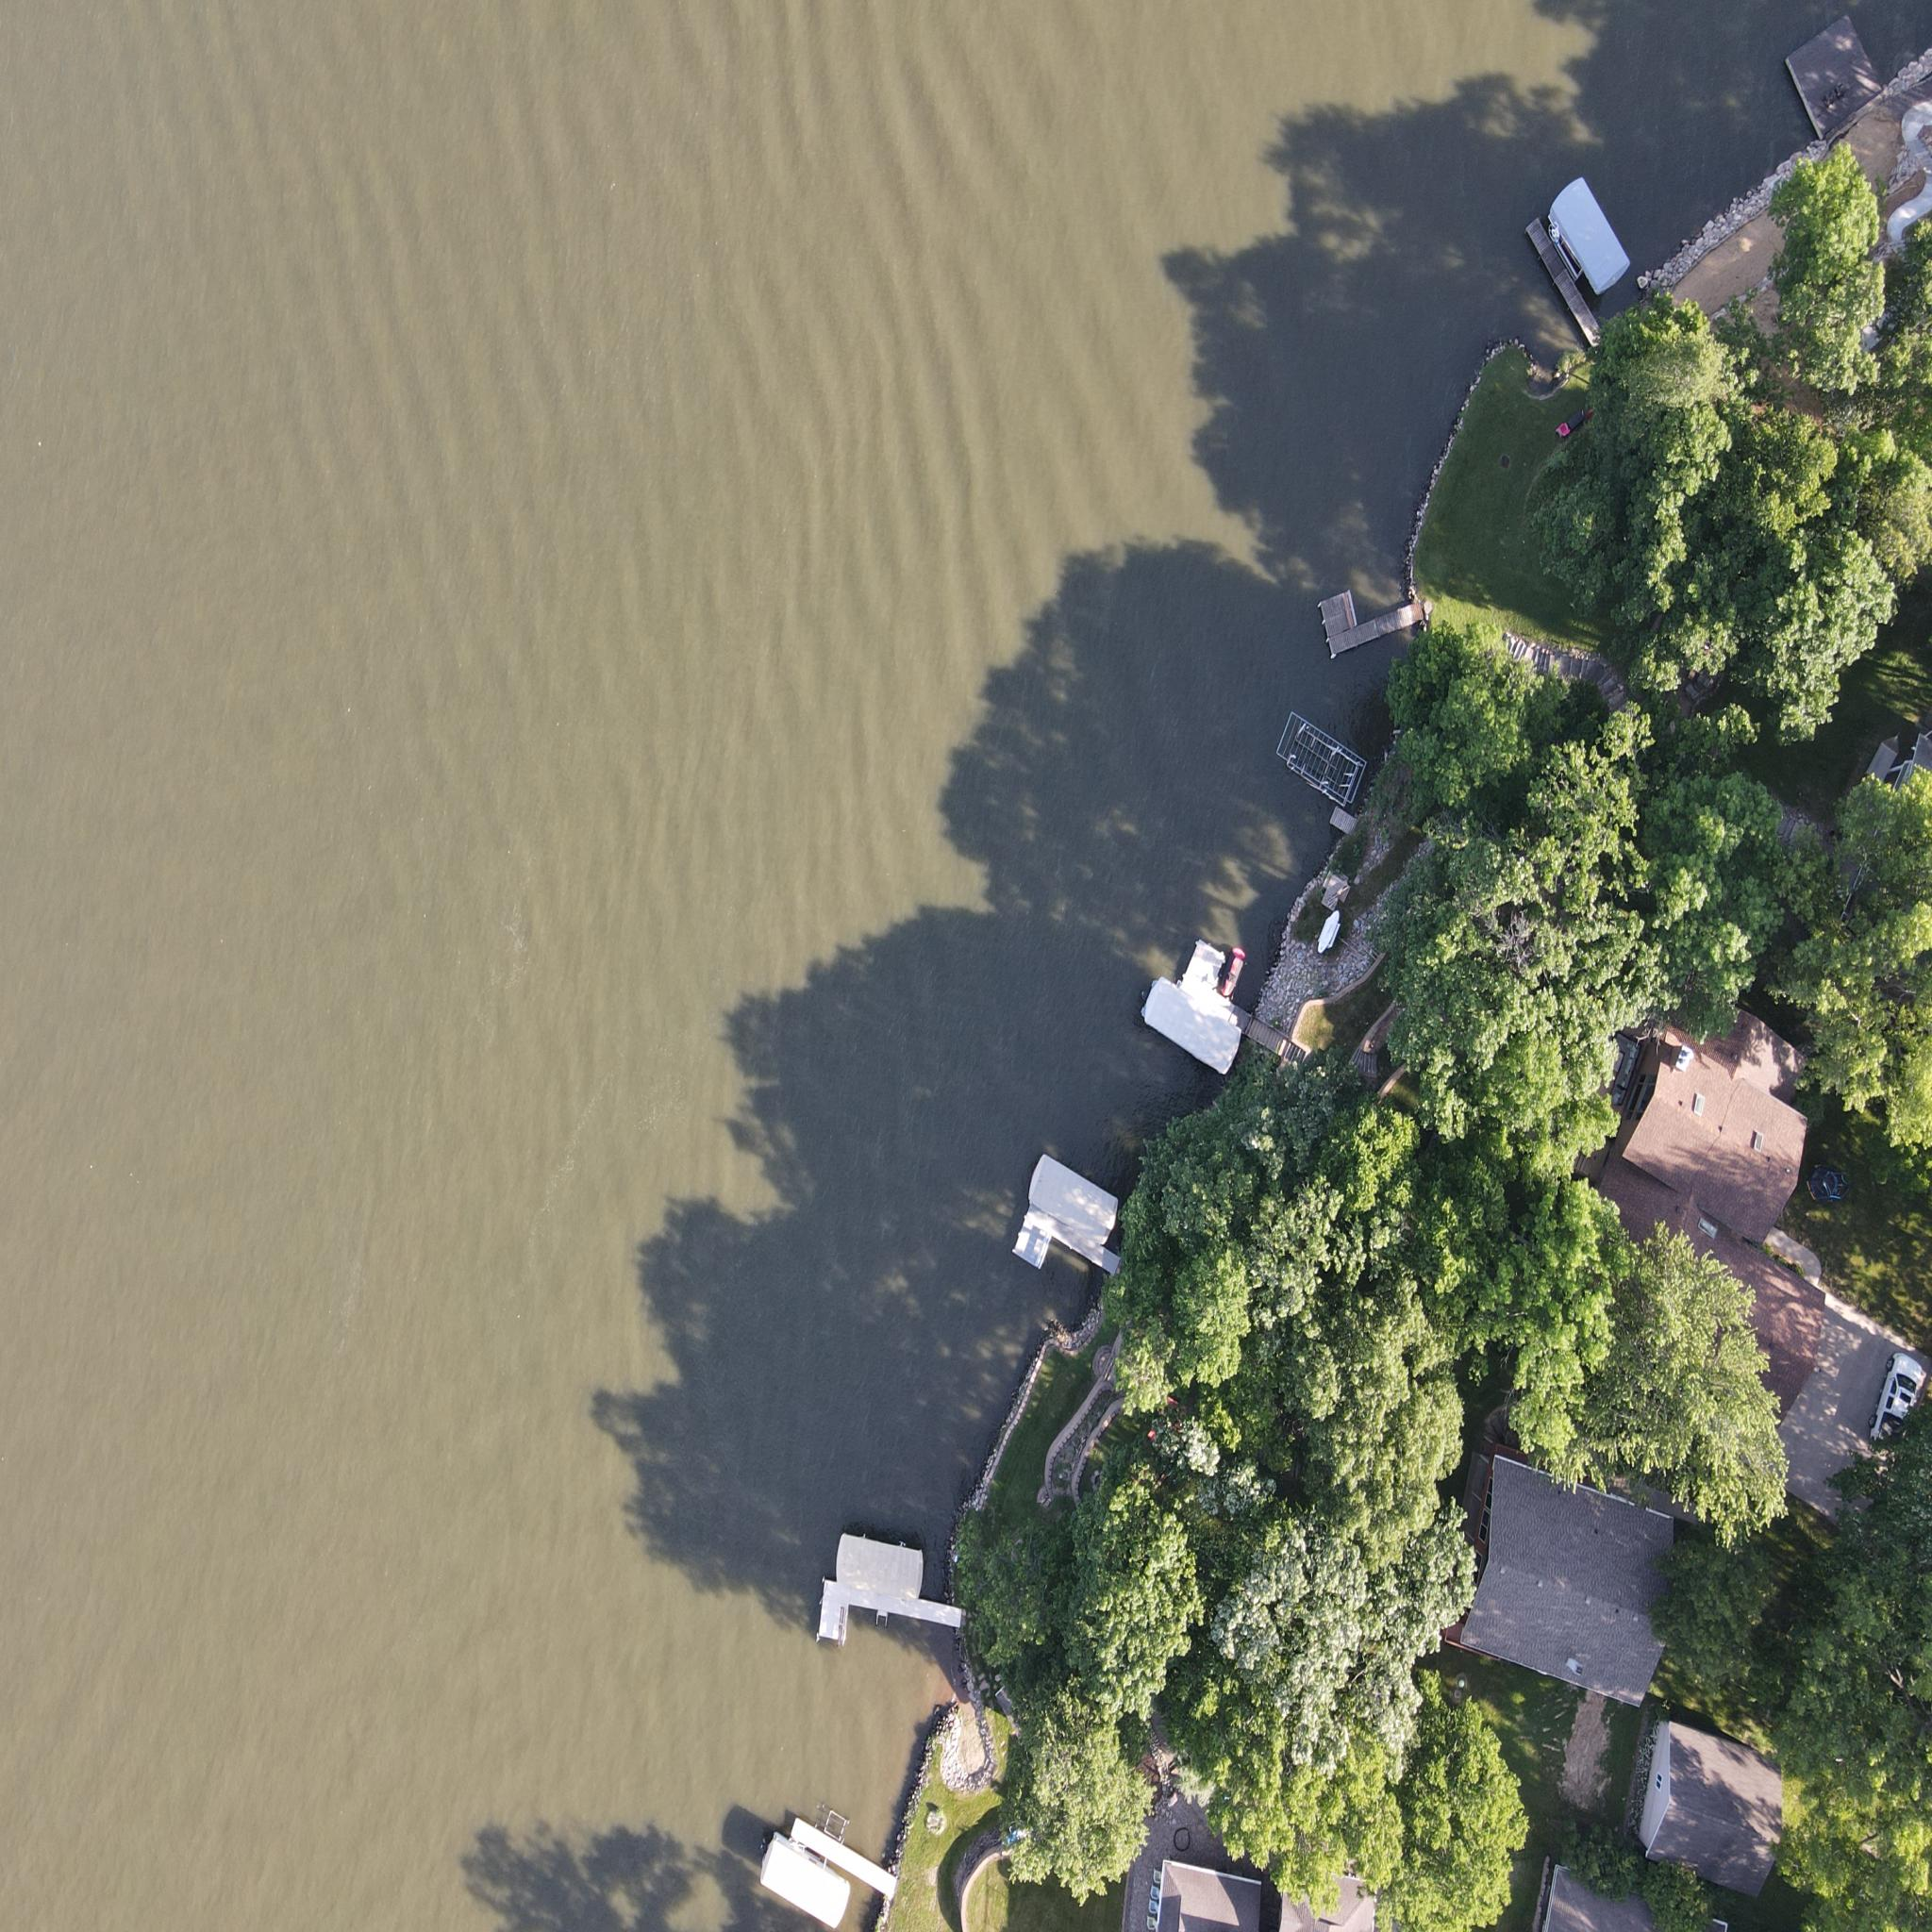car: (1863, 1343, 1930, 1454)
dock: (805, 1511, 966, 1684), (1177, 932, 1307, 1095), (1003, 1162, 1129, 1323), (1509, 207, 1617, 370), (786, 1806, 904, 1930), (1776, 18, 1886, 143), (1311, 584, 1430, 656)
jetski: (1219, 945, 1249, 996)
lift: (1553, 173, 1640, 317), (1274, 713, 1364, 830), (1033, 1148, 1129, 1246), (759, 1828, 855, 1923), (1145, 985, 1242, 1077), (840, 1529, 931, 1598)
